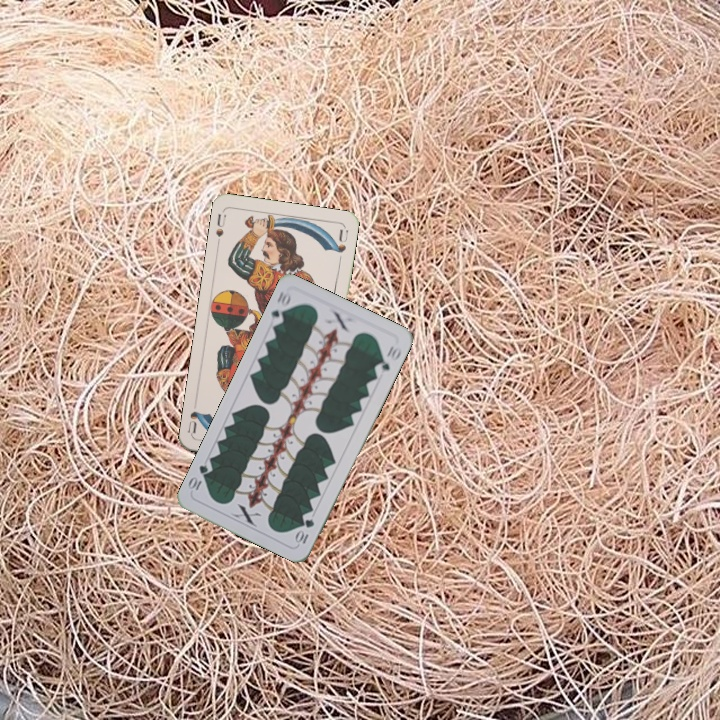G10: (266, 287, 294, 328), (292, 514, 317, 547)
SU: (212, 210, 228, 240)
